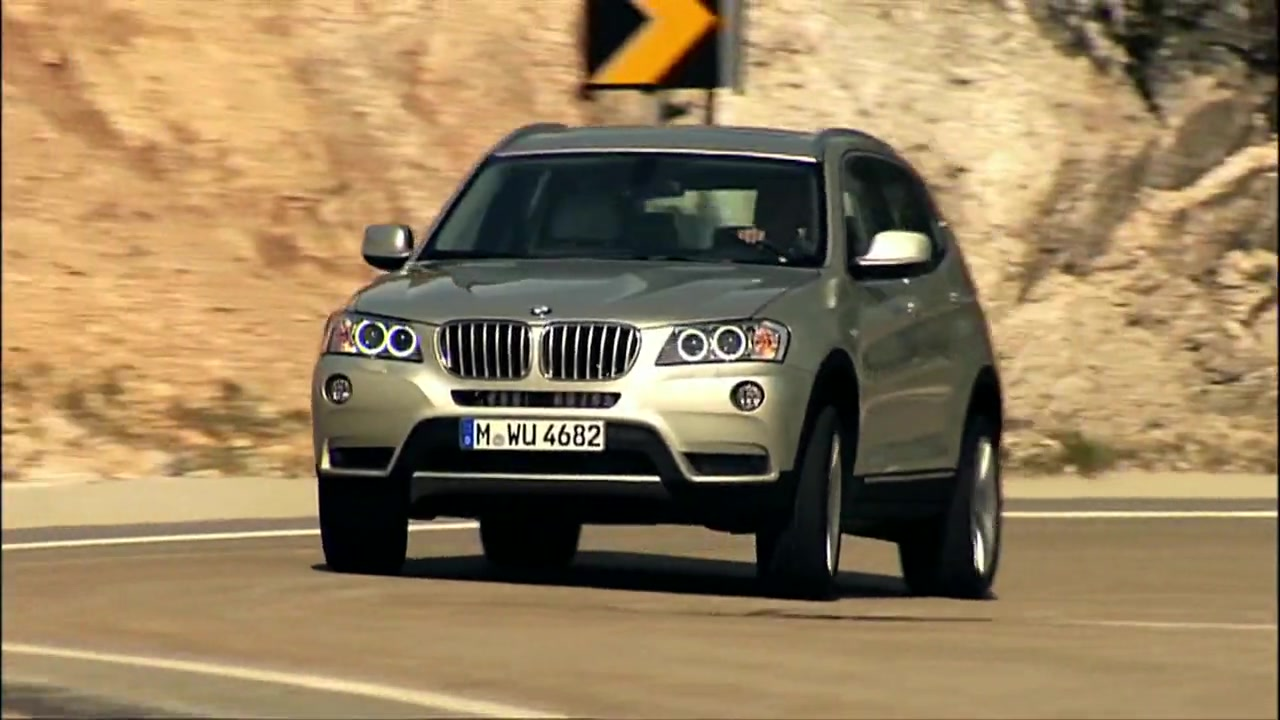car: (310, 118, 1008, 603)
